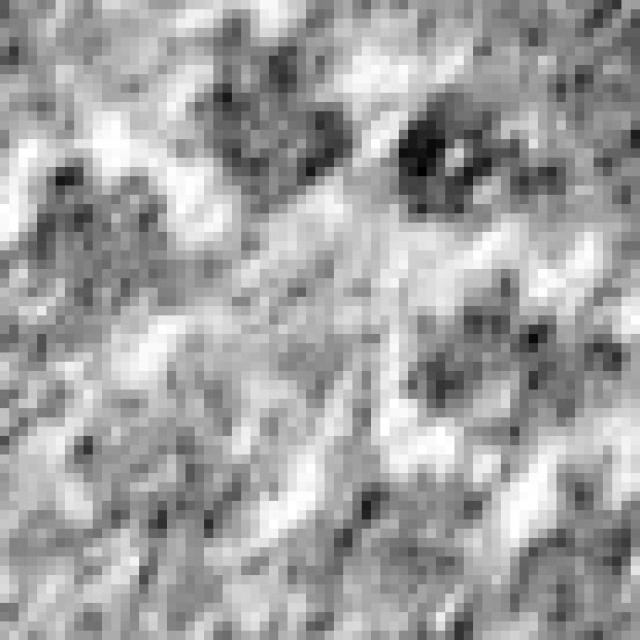inner: (189, 208, 430, 426)
lobe: (407, 263, 622, 452), (10, 160, 184, 360), (83, 378, 288, 547), (190, 30, 364, 214), (284, 470, 490, 615), (394, 85, 561, 226)
outer: (0, 6, 640, 640)
